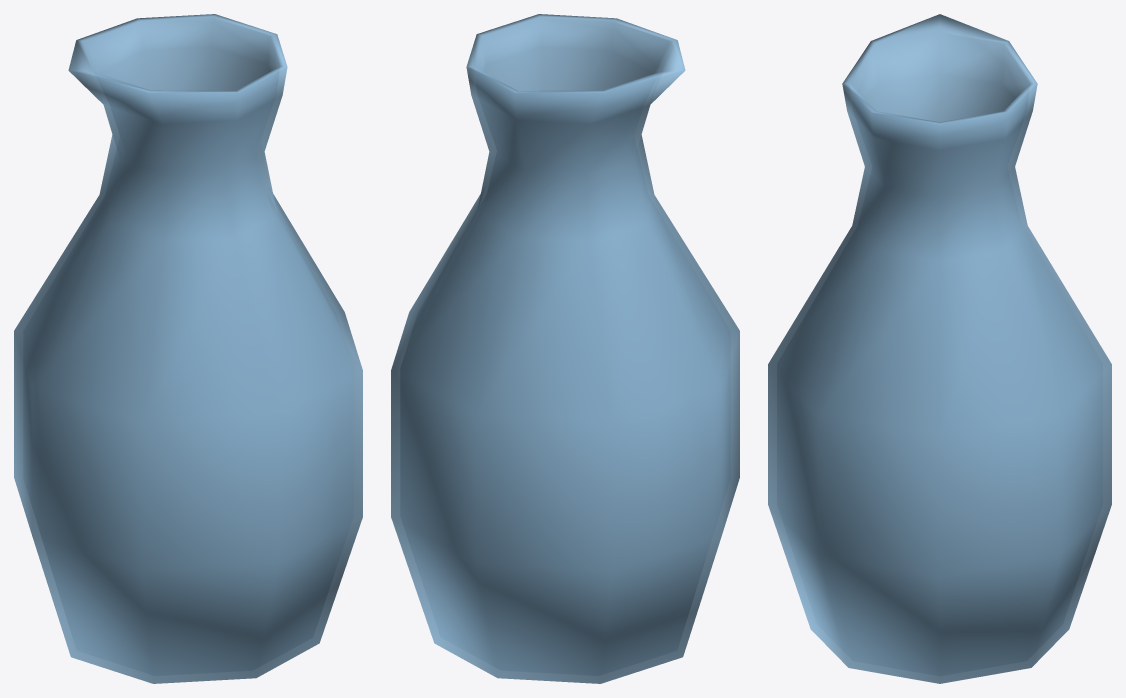
File: pitcher.glb
The picture shows the model from 3 angles, left to right: view 1: azimuth 30°, elevation 25°; view 2: azimuth 150°, elevation 25°; view 3: azimuth 270°, elevation 25°; orthographic projection. The views are drawn at different scales.
Visible parts, largest first — view 1: Cylinder.001; view 2: Cylinder.001; view 3: Cylinder.001.
Boxes of the visible parts, x1,y1,x2,y2 form: Cylinder.001: (14, 14, 362, 683); Cylinder.001: (391, 14, 739, 683); Cylinder.001: (768, 14, 1111, 683).
Bounding box in the file's own units: 2 × 3.59 × 2.
